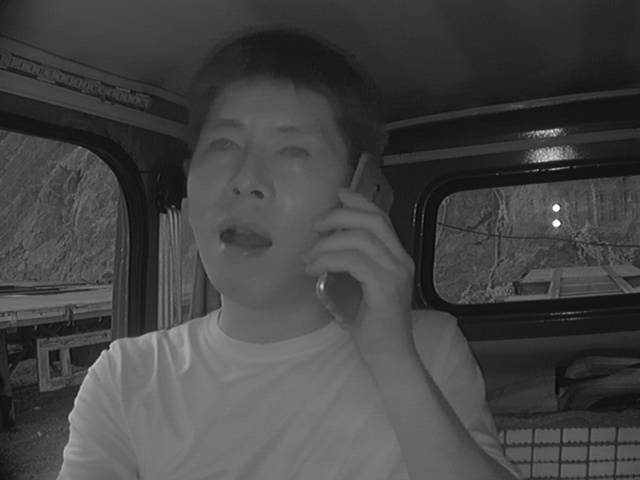hand: (307, 187, 419, 357)
